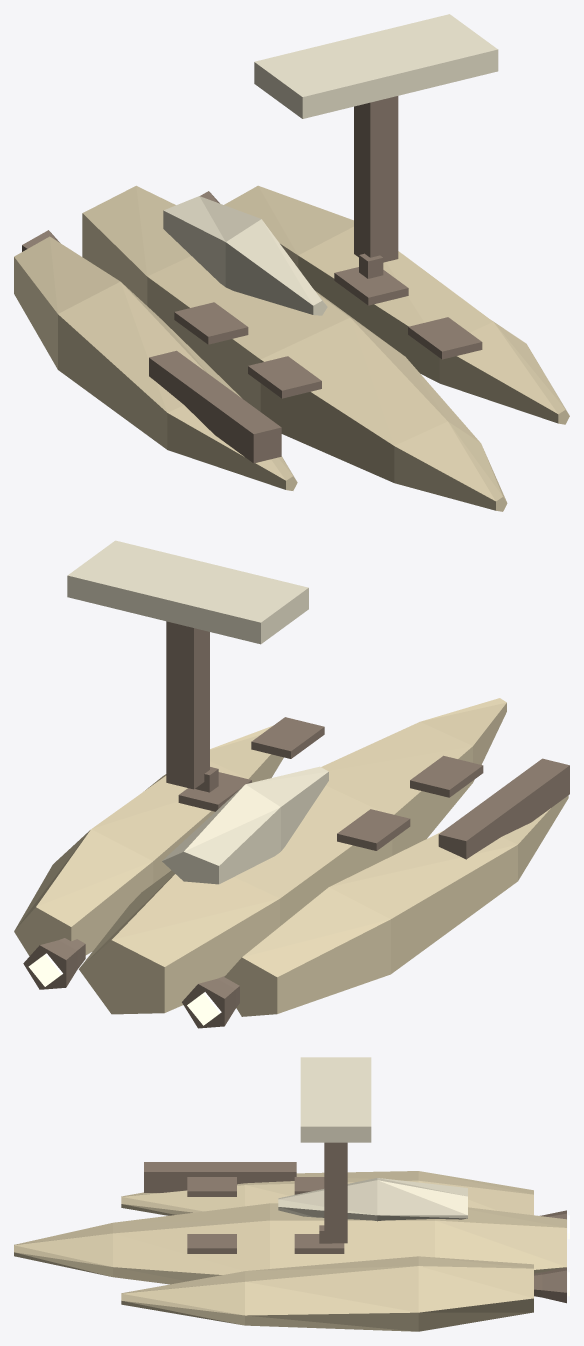
3 views of the same model, one above another, from view 1: azimuth 30°, elevation 25°; view 2: azimuth 150°, elevation 25°; view 3: azimuth 270°, elevation 25° (orthographic). The views are drawn at different scales.
Bounding box in the file's own units: 10.56 × 8.66 × 18.93.
